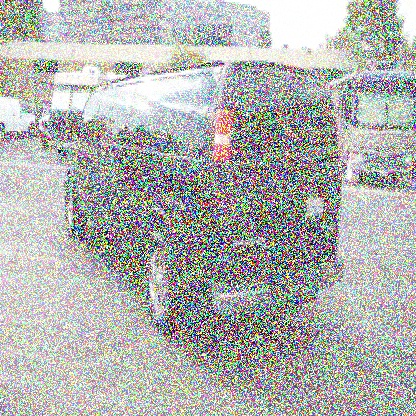Vehicle: (56, 59, 352, 339)
